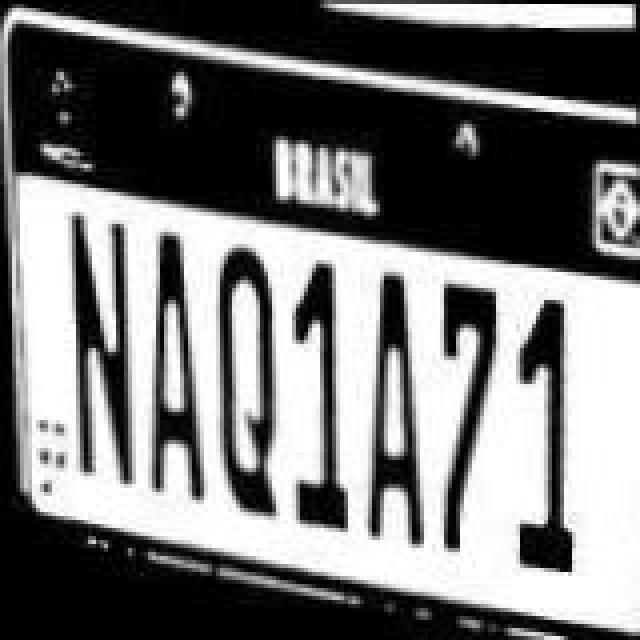1: (508, 298, 580, 598), (284, 256, 352, 532)
7: (436, 286, 508, 578)
A: (354, 274, 426, 566), (134, 216, 210, 492)
N: (62, 196, 138, 468)
Q: (212, 240, 280, 536)
